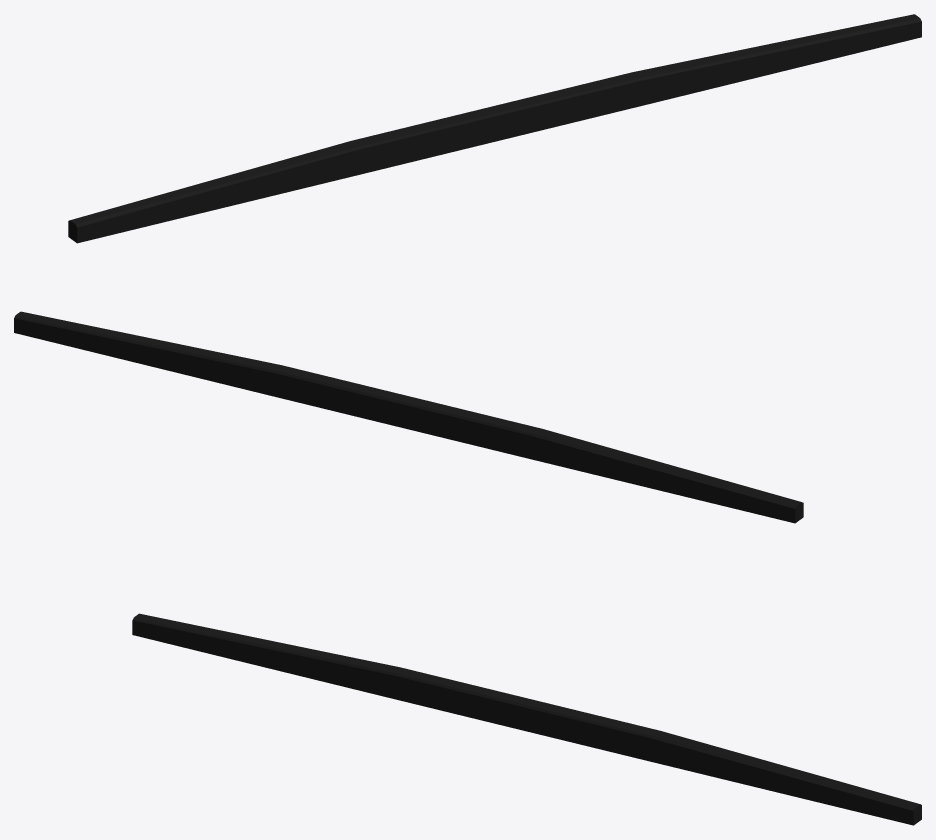
The model's file is Veh_YuShua_R_off.FBX.
3 views of the same model, one above another, from view 1: azimuth 30°, elevation 25°; view 2: azimuth 150°, elevation 25°; view 3: azimuth 330°, elevation 25° (orthographic). The views are drawn at different scales.
Parts seen in each view (by area): view 1: Box005; view 2: Box005; view 3: Box005.
Boxes of the visible parts, x1=… form: Box005: x1=68, y1=14, x2=921, y2=243; Box005: x1=14, y1=311, x2=803, y2=523; Box005: x1=132, y1=613, x2=921, y2=825.
Size of the model in its own units: 3.51 by 0.3197 by 0.3537.
